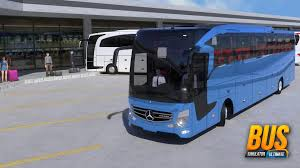bus: (125, 24, 296, 140), (78, 28, 167, 76)
